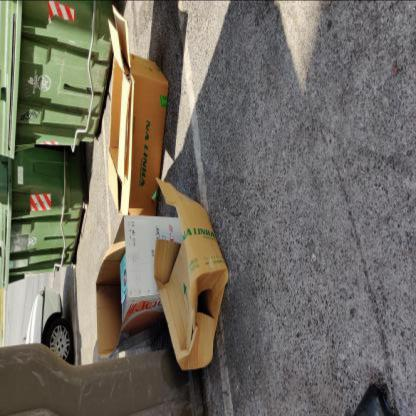Carton: (154, 178, 230, 371), (108, 4, 169, 216), (96, 216, 183, 358), (108, 21, 131, 185), (120, 252, 128, 322)
